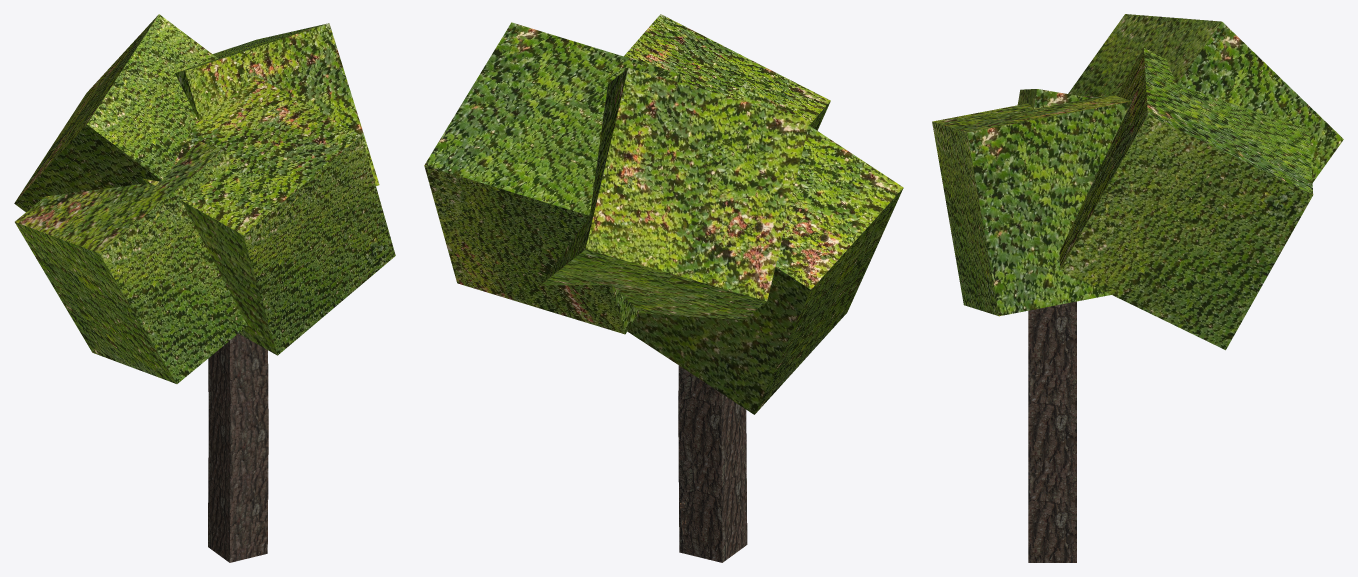
File: Arbol_02.fbx
3 renders of one model, left to right at view 1: azimuth 30°, elevation 25°; view 2: azimuth 150°, elevation 25°; view 3: azimuth 270°, elevation 25°, orthographic. The views are drawn at different scales.
Parts seen in each view (by area): view 1: Arbol_02; view 2: Arbol_02; view 3: Arbol_02.
Boxes of the visible parts, bbox=[...] form: Arbol_02: bbox=[14, 14, 395, 562]; Arbol_02: bbox=[424, 14, 903, 562]; Arbol_02: bbox=[932, 14, 1343, 562].
Size of the model in its own units: 118 by 180 by 127.
